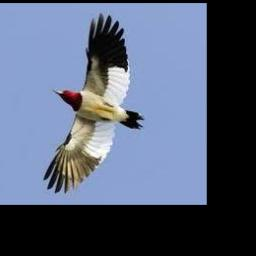Woodpecker: (44, 13, 145, 193)
